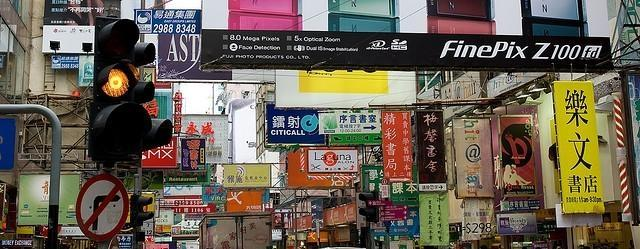truck: (199, 210, 272, 249)
